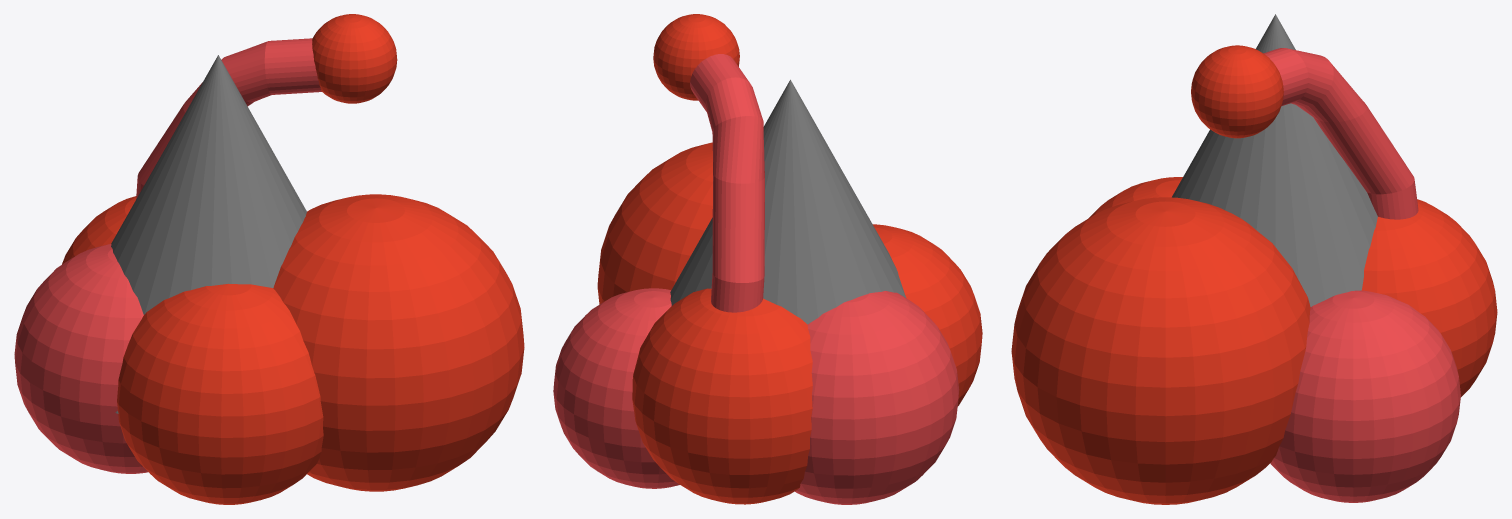
File: coneFleshObst.fbx
The picture shows the model from 3 angles, left to right: view 1: azimuth 30°, elevation 25°; view 2: azimuth 150°, elevation 25°; view 3: azimuth 270°, elevation 25°; orthographic projection. The views are drawn at different scales.
Visible parts, largest first — view 1: Cone; view 2: Cone; view 3: Cone.
Boxes of the visible parts, box(x1,y1,x2,y2) form: Cone: box(14, 14, 524, 504); Cone: box(553, 14, 982, 504); Cone: box(1011, 14, 1497, 504).
Size of the model in its own units: 282 by 287 by 281.
